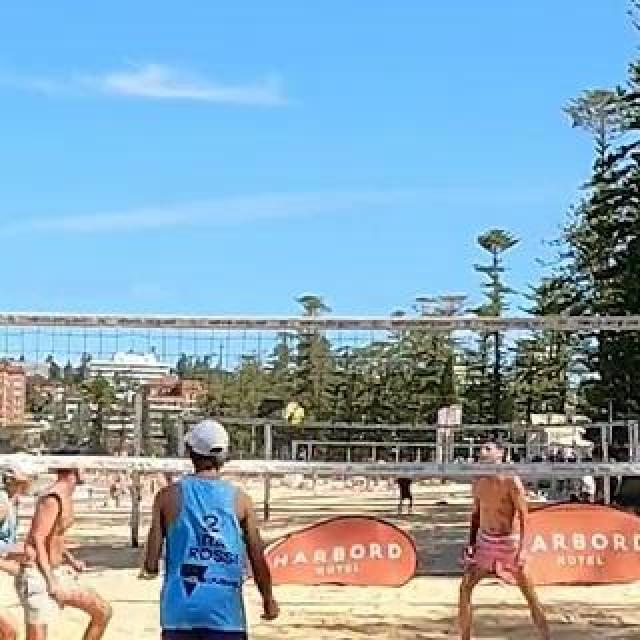volleyball: (285, 404, 305, 428)
